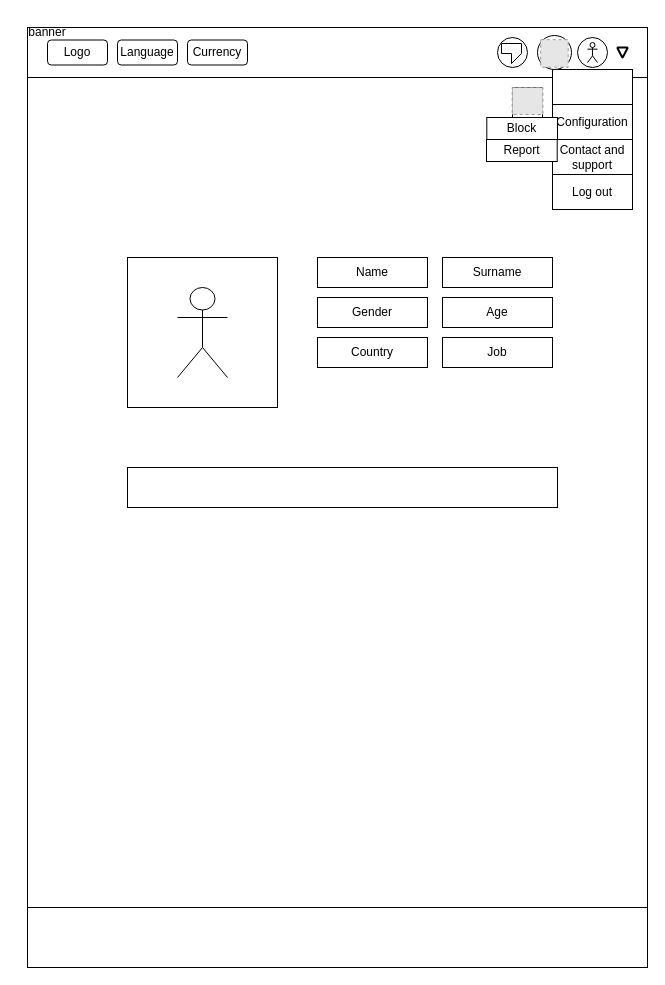
Some shapes in this 665 by 985 pixel diagram are drawn without their labels. Grey dashed boxes stand in for pictures. Each missing label, with the centre of its shape:
"Description" belongs at (x=342, y=487).
"footpage" belongs at (x=337, y=937).
"My Profile" belongs at (x=592, y=86).
